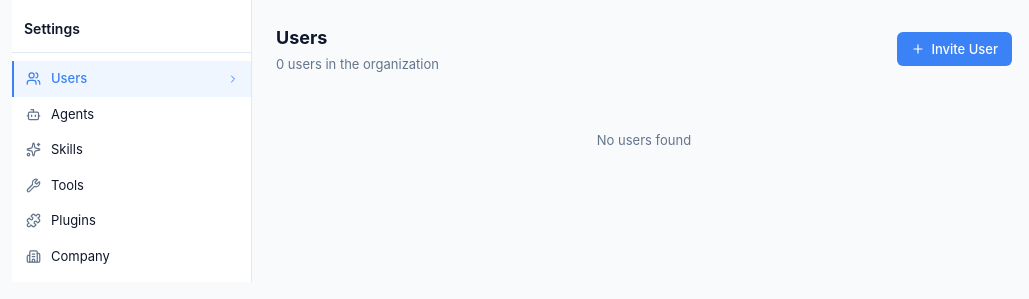
Scenario: SettingsScreen › clicking "Tools" nav shows tools section with piece tools
The width and height of the screenshot is (1029, 299).
Click the button "Tools" at [132, 185], box left=12, top=168, right=251, bottom=203
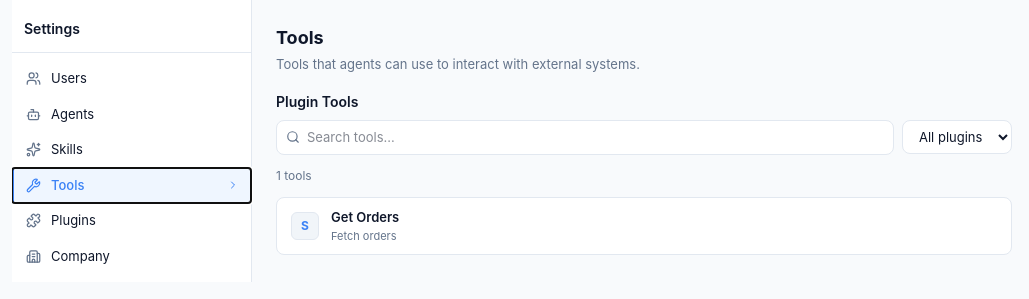
expect the heading "Plugin Tools" is shown: met, box left=276, top=92, right=358, bottom=110
expect the text "Get Orders" is shown: met, box left=331, top=209, right=399, bottom=225
